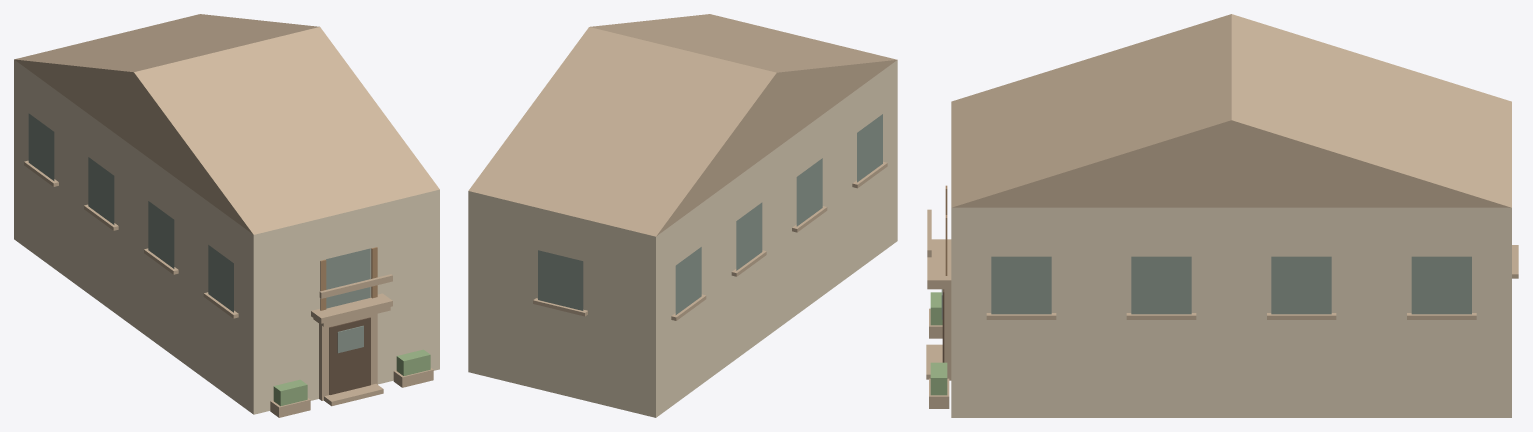
File: residential_1x2_a.glb
3 views of the same model, side by side, from view 1: azimuth 30°, elevation 25°; view 2: azimuth 150°, elevation 25°; view 3: azimuth 270°, elevation 25° (orthographic). The views are drawn at different scales.
Visible parts, largest first — view 1: residential_1x2_a_0; view 2: residential_1x2_a_0; view 3: residential_1x2_a_0.
Part boxes in pixels (bbox=[...]): residential_1x2_a_0: bbox=[14, 14, 439, 417]; residential_1x2_a_0: bbox=[468, 14, 897, 417]; residential_1x2_a_0: bbox=[926, 14, 1518, 417].
Size of the model in its own units: 6.86 by 8.5 by 15.33.
